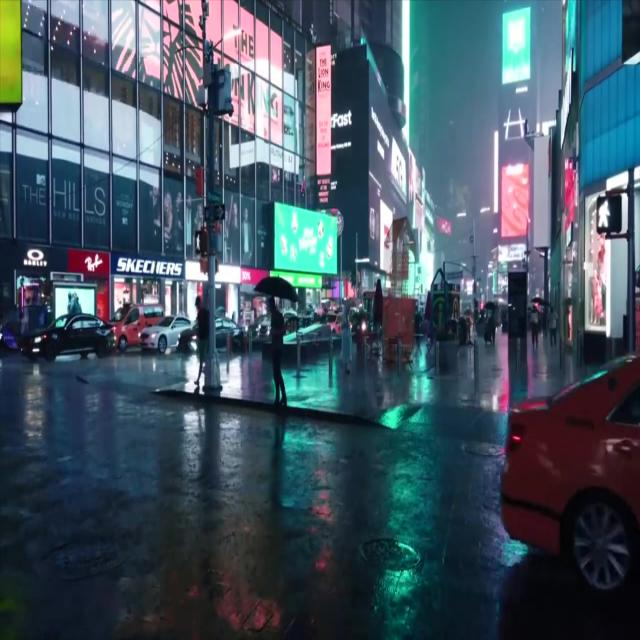Car: (24, 315, 109, 363)
